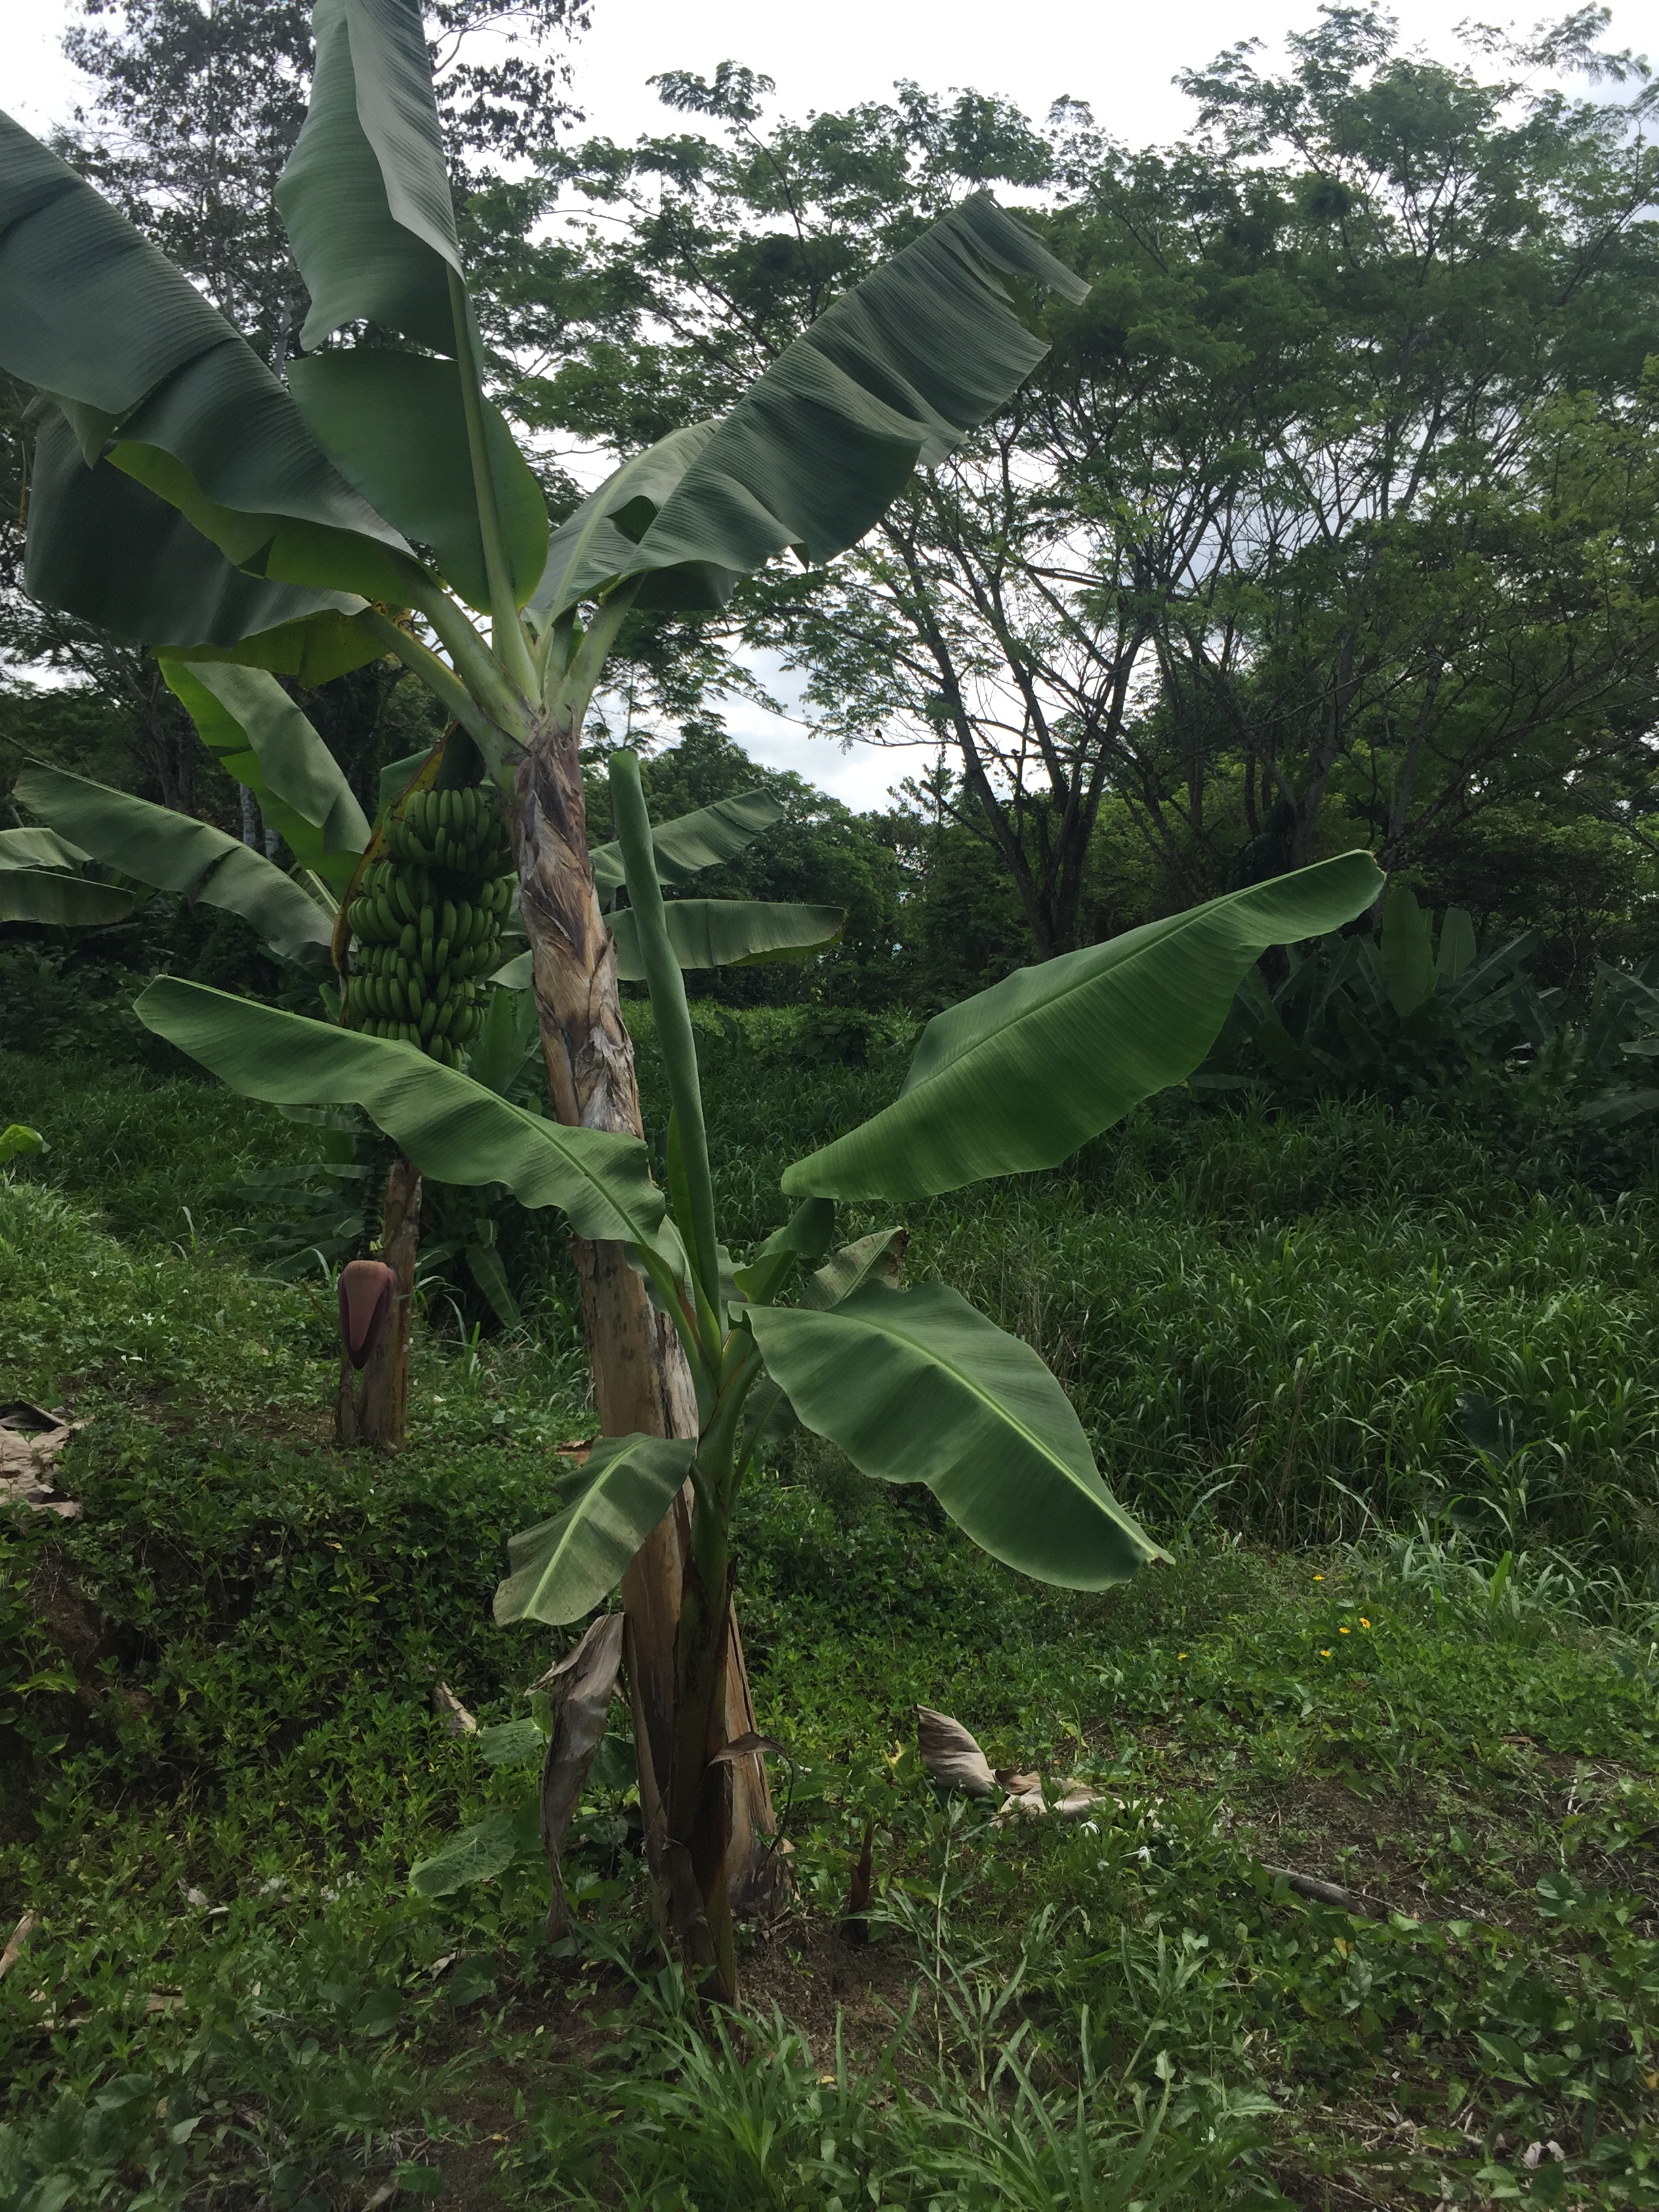candleleafs: (606, 749, 716, 1324)
